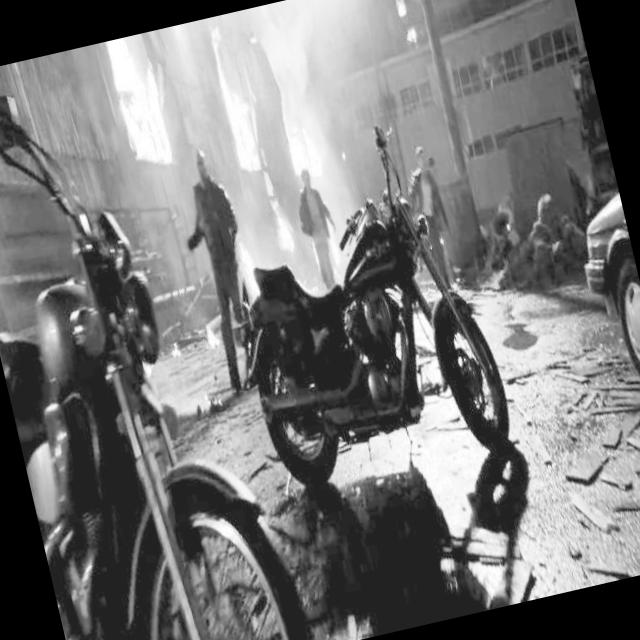Car: (565, 155, 640, 392)
Motorcycle: (0, 153, 313, 640), (174, 176, 543, 572)
